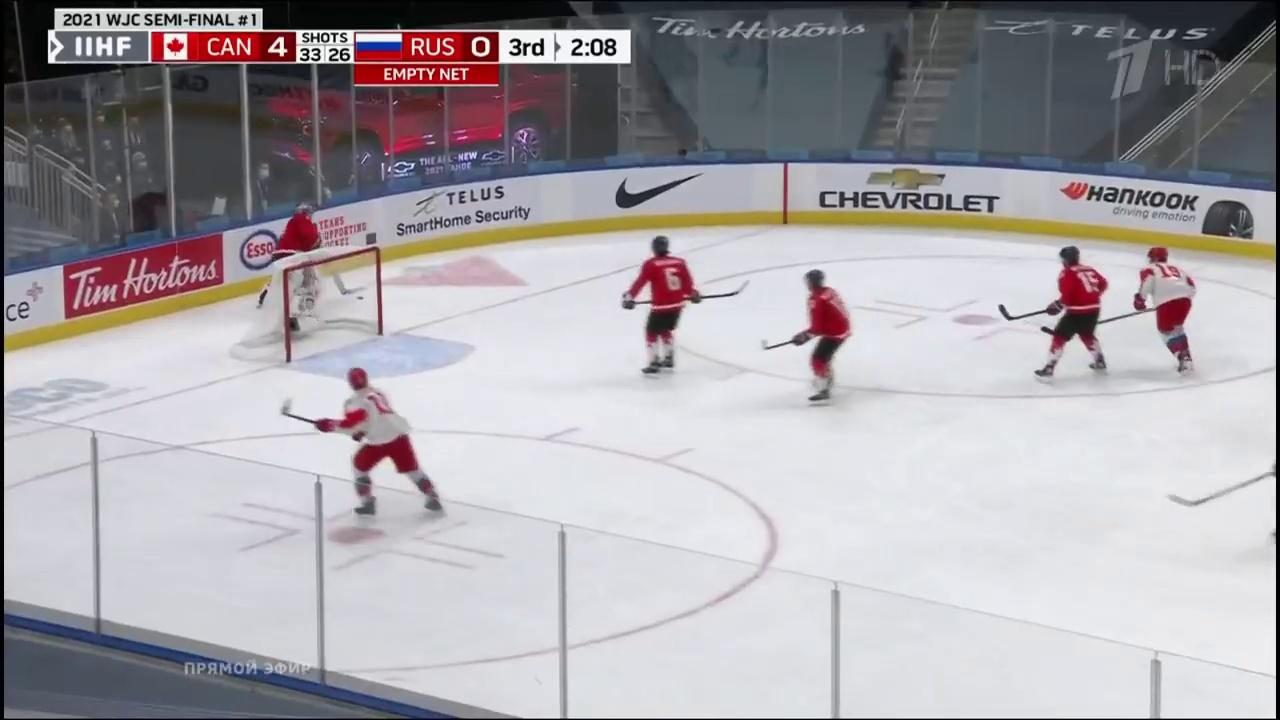ball: (357, 296, 365, 300)
